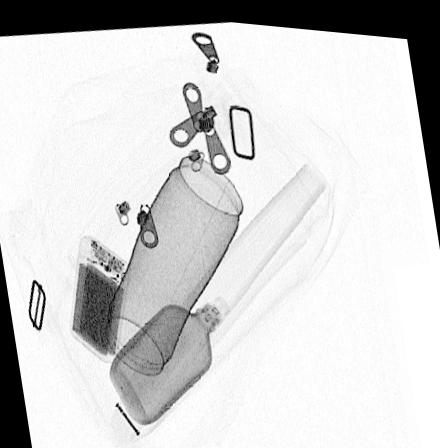Powerbank: (69, 232, 130, 361)
